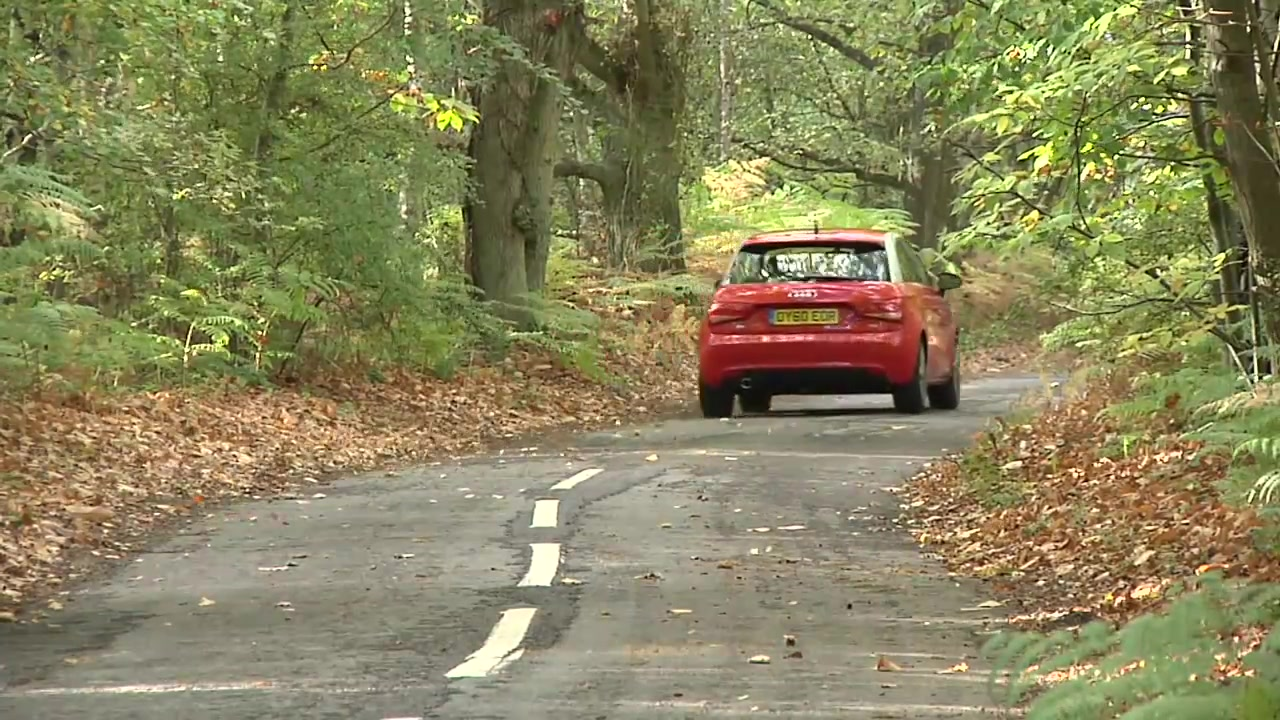car: (696, 227, 972, 419)
